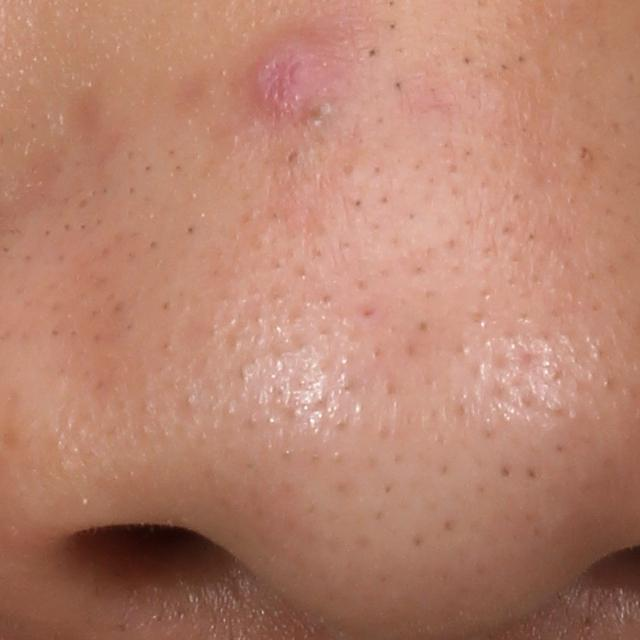comedo: (570, 141, 598, 169), (281, 146, 302, 167)
papule: (250, 33, 326, 120)
